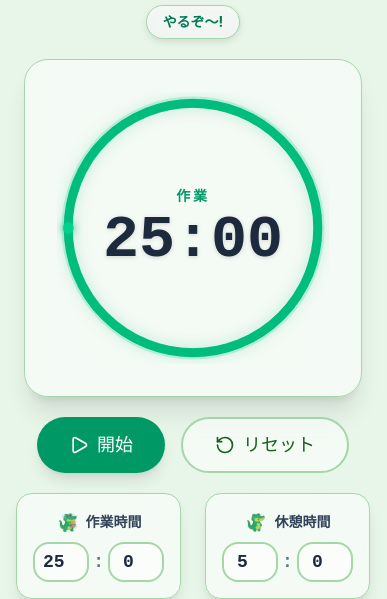
PomodoroTimer › 作業時間の秒を設定できること
The image size is (387, 599).
(page scrolled)
作業時間の秒入力を変更
Step 1. Replace the text in the number field named "作業時間（秒）" with "30" → (136, 562), box left=108, top=542, right=164, bottom=582
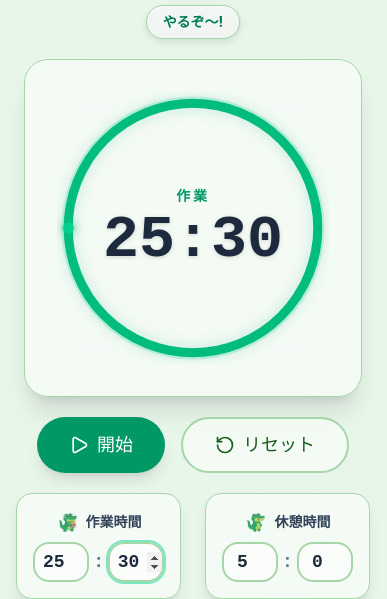
Result: the text "25:30" is shown at left=103, top=210, right=283, bottom=270
